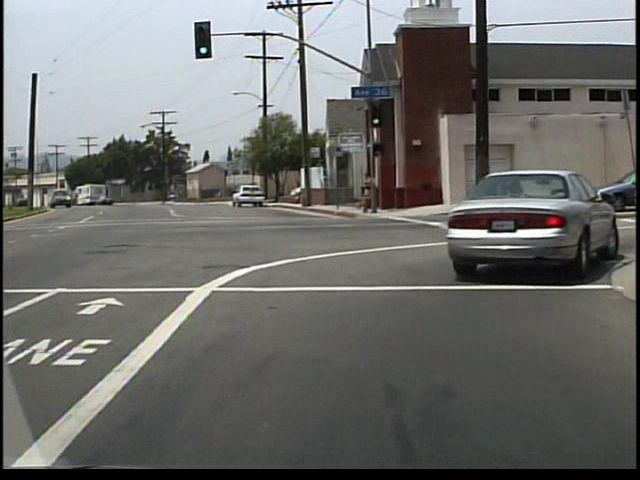person: (358, 171, 375, 213)
